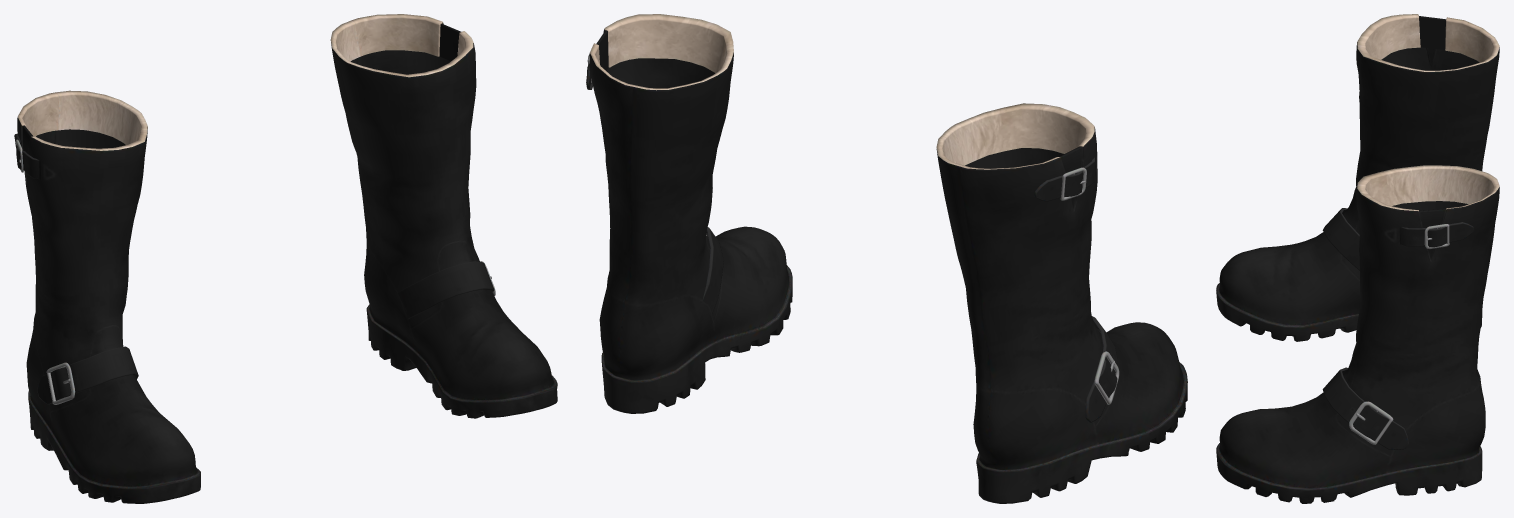
Rendered from mindfront-shoes-biker-boots-male.glb.
The picture shows the model from 3 angles, left to right: view 1: azimuth 30°, elevation 25°; view 2: azimuth 150°, elevation 25°; view 3: azimuth 270°, elevation 25°; orthographic projection. The views are drawn at different scales.
Visible parts, largest first — view 1: Human.mindfront_shoes_biker_boots_male; view 2: Human.mindfront_shoes_biker_boots_male; view 3: Human.mindfront_shoes_biker_boots_male.
Part boxes in pixels (bbox=[...]): Human.mindfront_shoes_biker_boots_male: bbox=[14, 14, 557, 503]; Human.mindfront_shoes_biker_boots_male: bbox=[586, 14, 1187, 503]; Human.mindfront_shoes_biker_boots_male: bbox=[1216, 14, 1499, 503].
Bounding box in the file's own units: 0.5518 × 0.3609 × 0.3185.
1 material, 1 textured.
